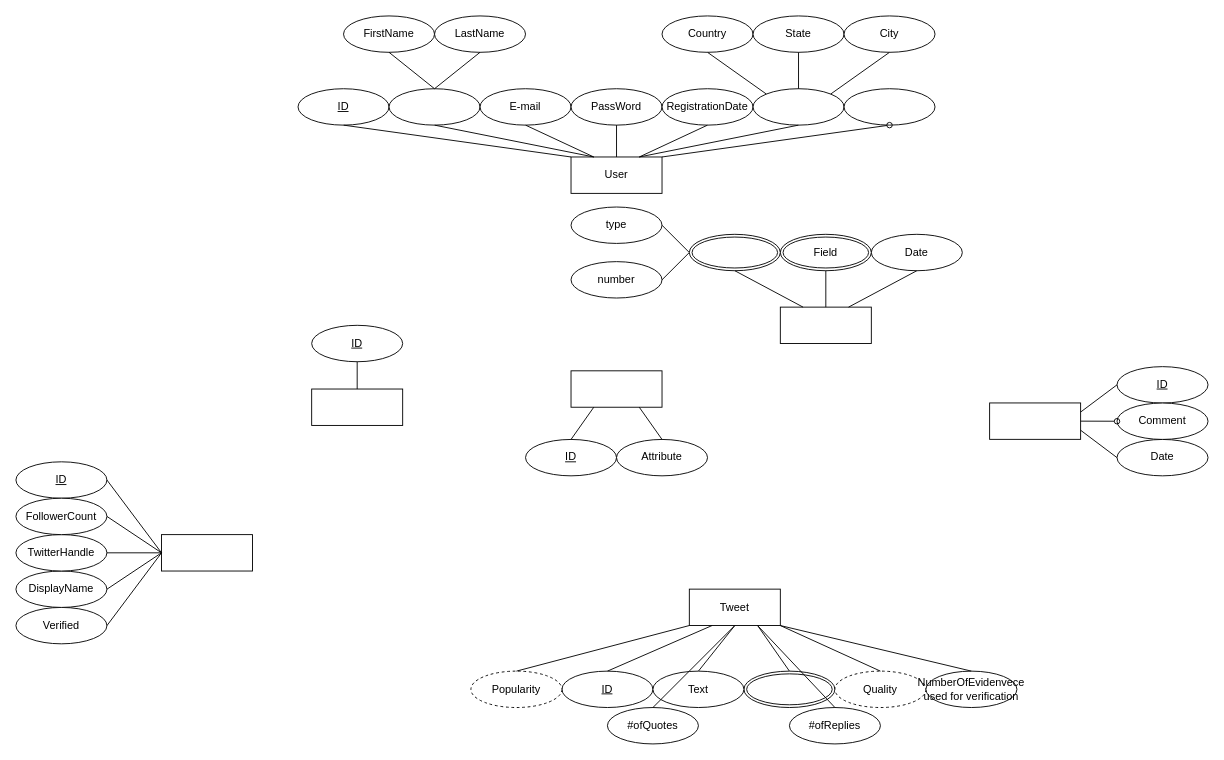
This 1224x760 diagram has some shape labels left out. Here are the shapes that lost their labels. From the top down, the centre of each, then its label:
point (434, 106): Name
point (798, 106): Address
point (889, 106): URL
point (734, 252): PhoneNumber
point (825, 325): Checker
point (357, 406): RawTweet
point (616, 388): Evidence
point (1035, 420): Verification
point (207, 552): Tweeter
point (789, 689): HashTag
